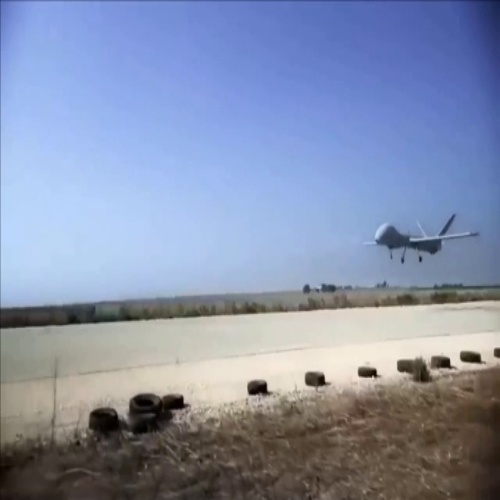uav799: (359, 211, 482, 264)
